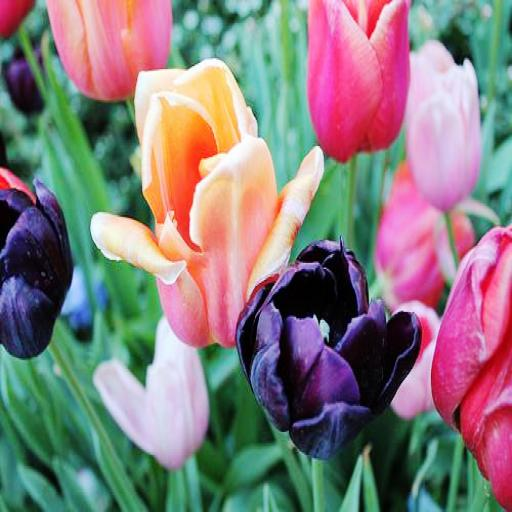tulip: (90, 60, 323, 343), (236, 240, 424, 460), (429, 226, 512, 507), (91, 308, 213, 472), (406, 43, 477, 205)
